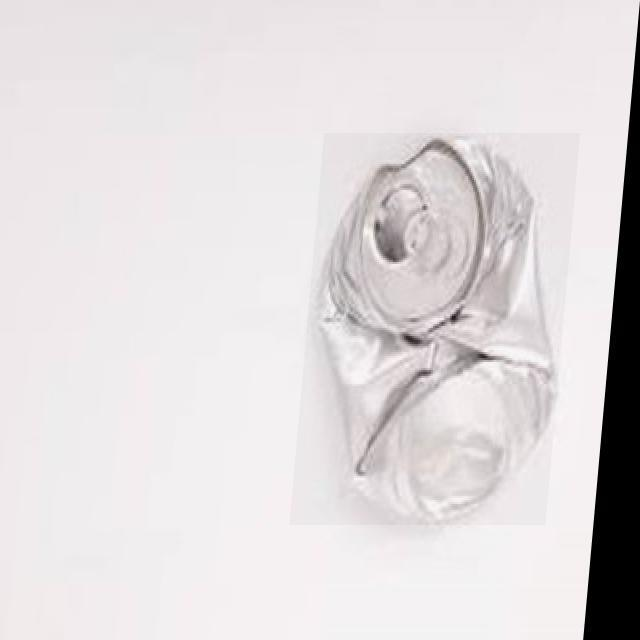trash: (299, 133, 583, 525)
